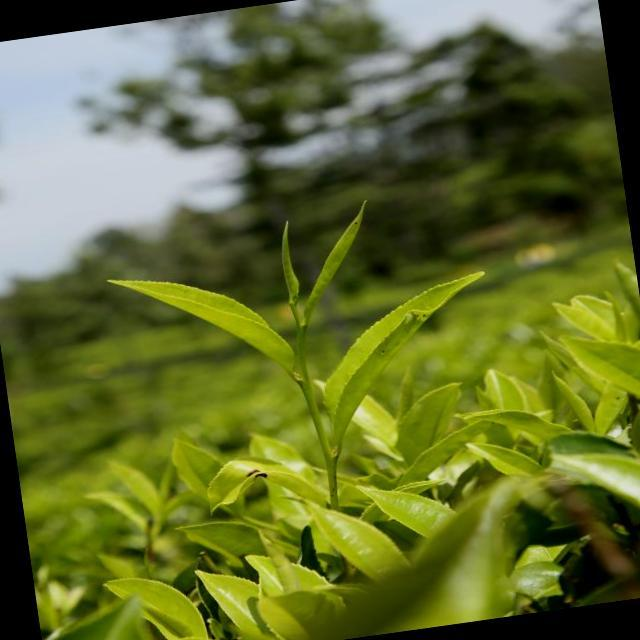Stem: (303, 382, 310, 390)
